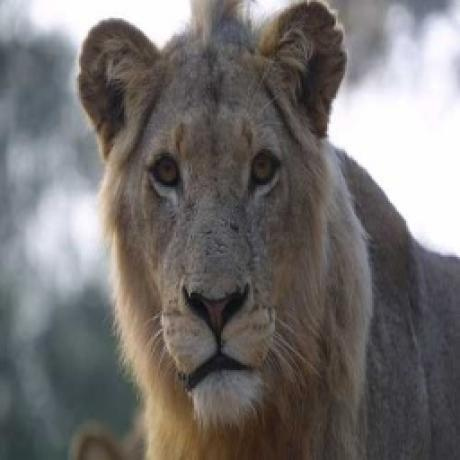Lion: (73, 0, 460, 460)
